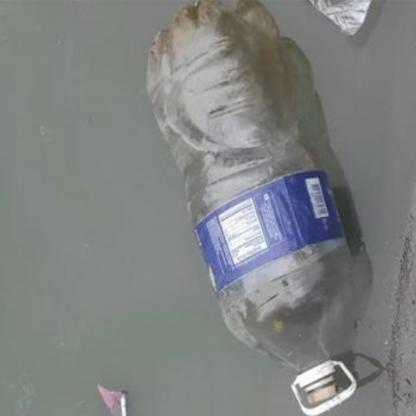Plastic: (143, 0, 369, 416)
Trash: (303, 0, 369, 34)
